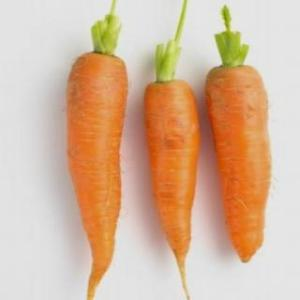carrot: (52, 40, 140, 298), (206, 59, 280, 271), (144, 70, 206, 288)
